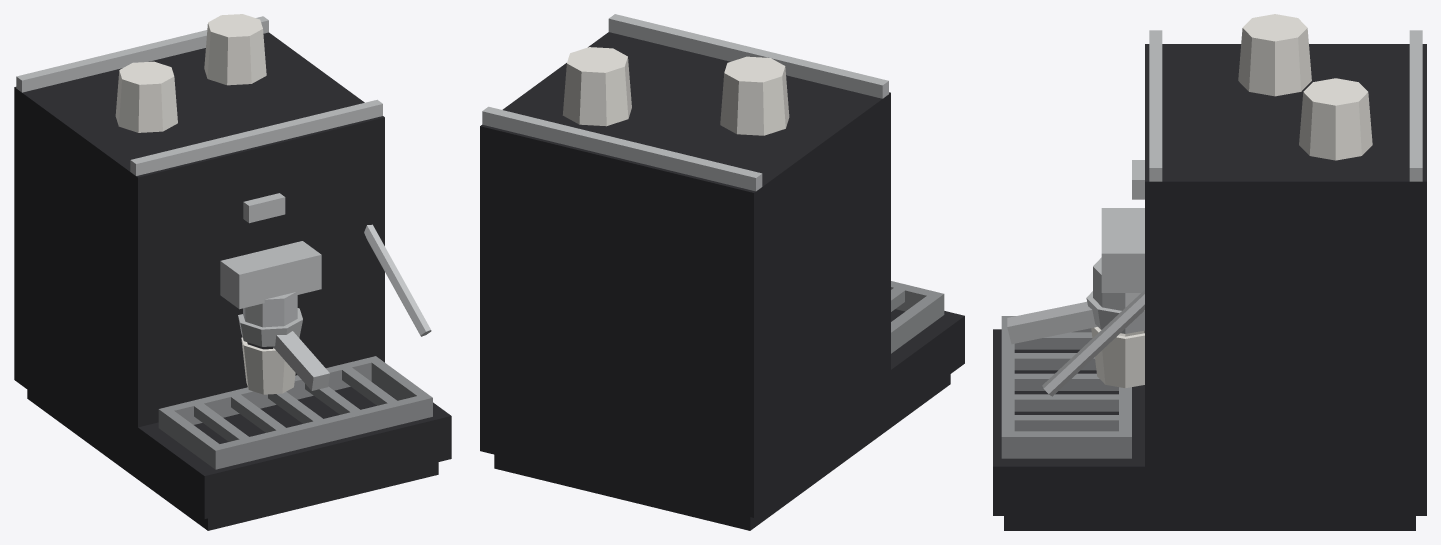
The model's file is FN_Machine_Coffee.obj.
3 renders of one model, left to right at view 1: azimuth 30°, elevation 25°; view 2: azimuth 150°, elevation 25°; view 3: azimuth 270°, elevation 25°, orthographic. The views are drawn at different scales.
Parts seen in each view (by area): view 1: FN_Machine_Coffee; view 2: FN_Machine_Coffee; view 3: FN_Machine_Coffee.
Boxes of the visible parts, left/top/right/bottom form: FN_Machine_Coffee: left=14, top=14, right=451, bottom=530; FN_Machine_Coffee: left=480, top=14, right=964, bottom=530; FN_Machine_Coffee: left=993, top=14, right=1426, bottom=530.
Size of the model in its own units: 0.3049 by 0.414 by 0.4.
Materials: 1 (1 with a texture image).
